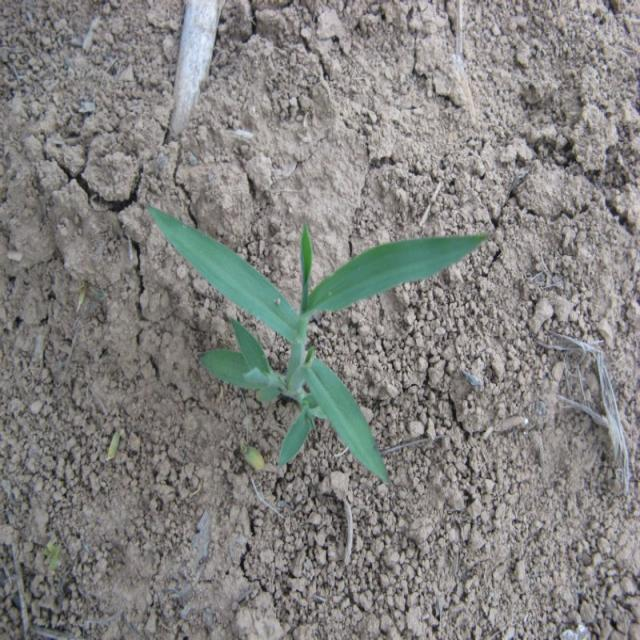bg: (148, 196, 493, 492)
